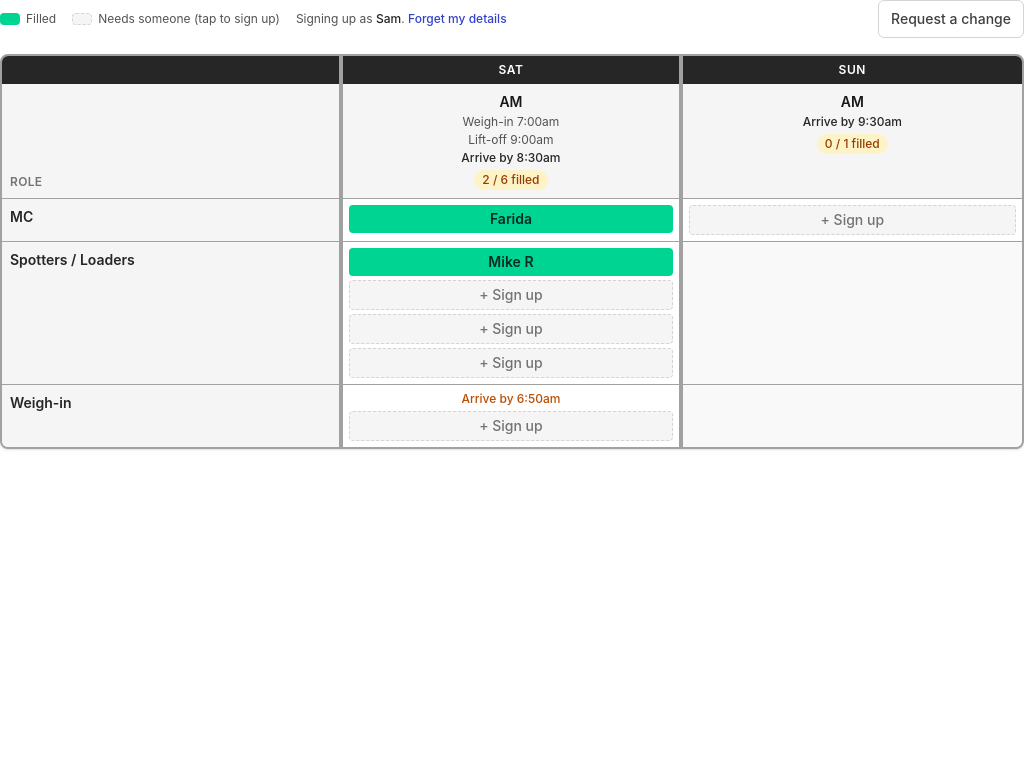
Test: PublicRotaBoard — signing up › lets a different person use their own details instead of the remembered ones
Click the button with aria-label "Sign up for Sun AM · MC" at (852,220), box [689, 205, 1016, 235]
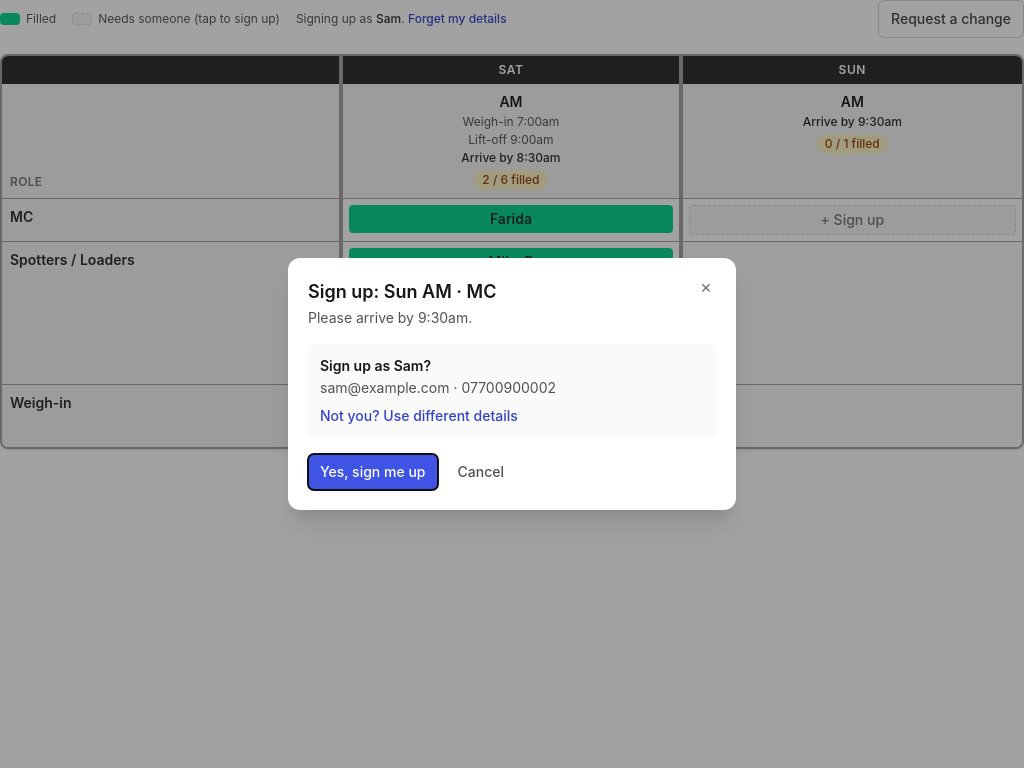
Click the button "Not you? Use different details" at (419,416), box [320, 406, 518, 426]
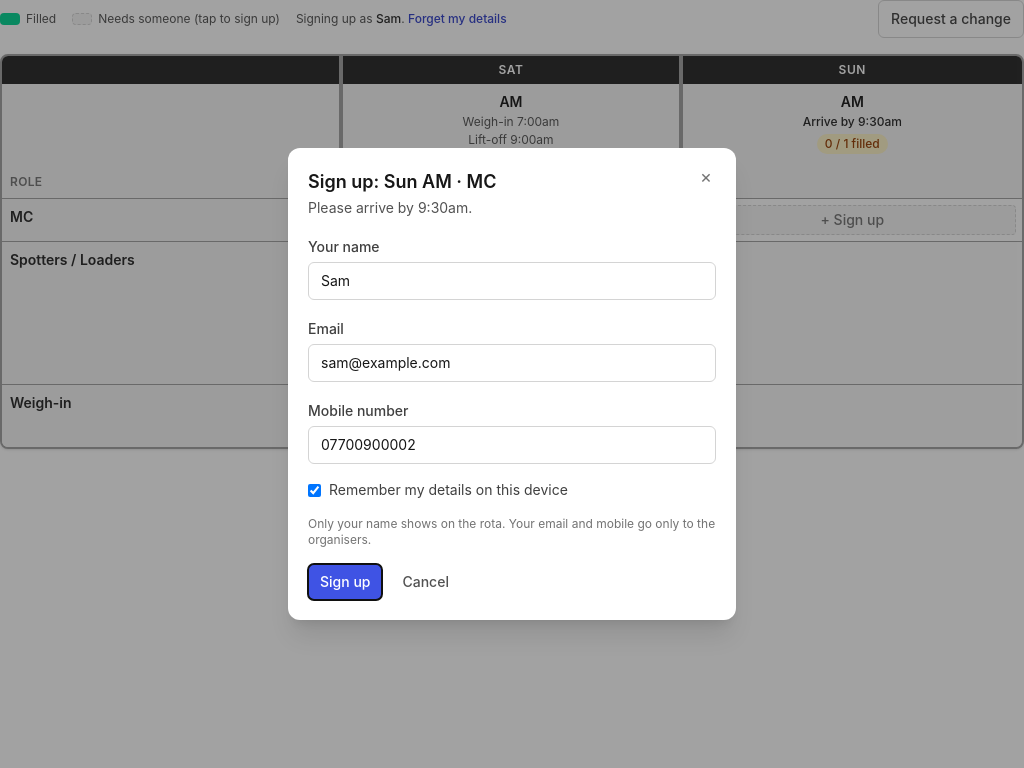
Now the field labelled "Your name" holds "Sam", box [308, 262, 716, 300]
